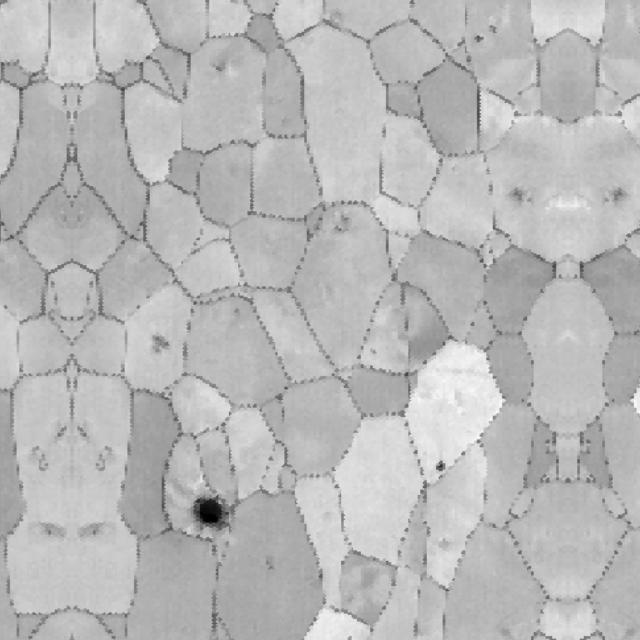good_void: (182, 488, 236, 528), (205, 51, 243, 77), (507, 181, 537, 212), (601, 181, 631, 212), (92, 440, 117, 474), (28, 440, 53, 474), (332, 209, 355, 238), (79, 521, 108, 544), (38, 521, 67, 544), (146, 330, 172, 355), (274, 391, 290, 425), (51, 422, 72, 446), (74, 422, 94, 446), (430, 456, 455, 471), (434, 534, 453, 553), (262, 554, 279, 573), (483, 22, 502, 38), (276, 113, 294, 129), (229, 306, 245, 318), (471, 32, 486, 44), (366, 346, 380, 357), (347, 633, 355, 640)
